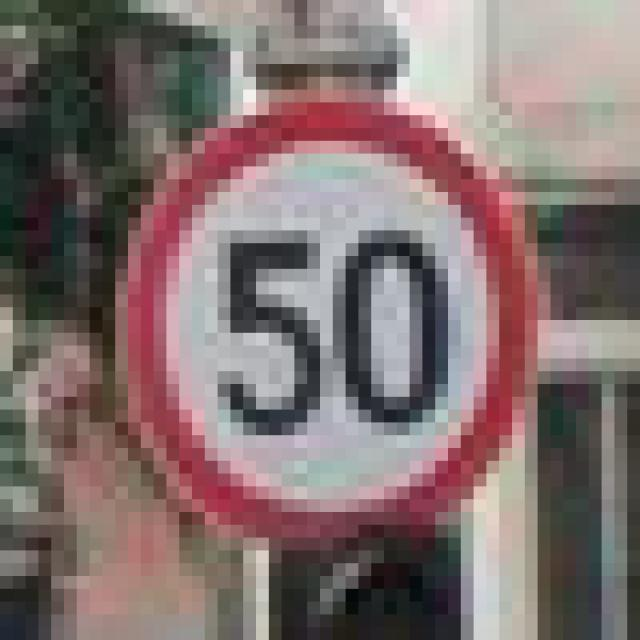speed_limit_30: (102, 90, 538, 512)
